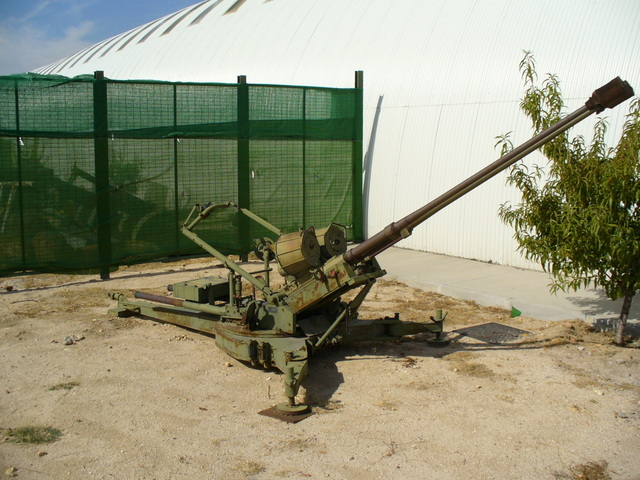rifle: (103, 73, 615, 415)
